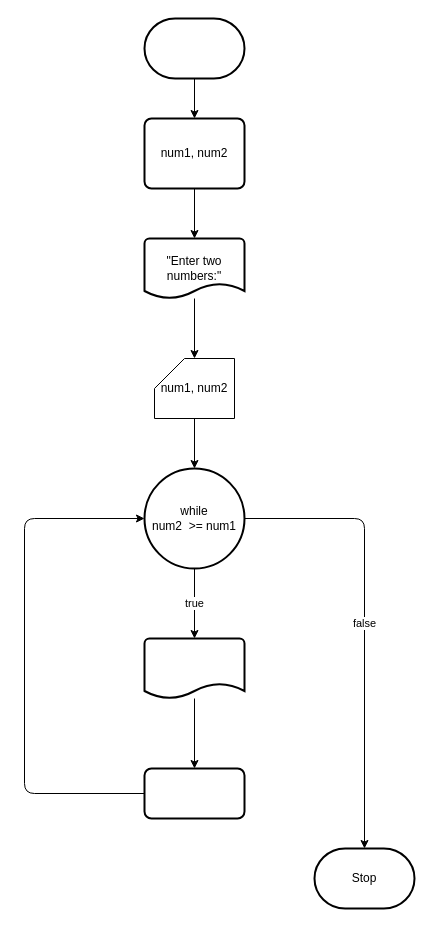
Image size: 433x926. Some labels were removed from this diagram. Here are the shapes that lost their labels. From the top down, the centre of each, then its label:
[194,48]: Start
[194,668]: num2 + "\n"
[194,793]: num2 = num2 - 1
